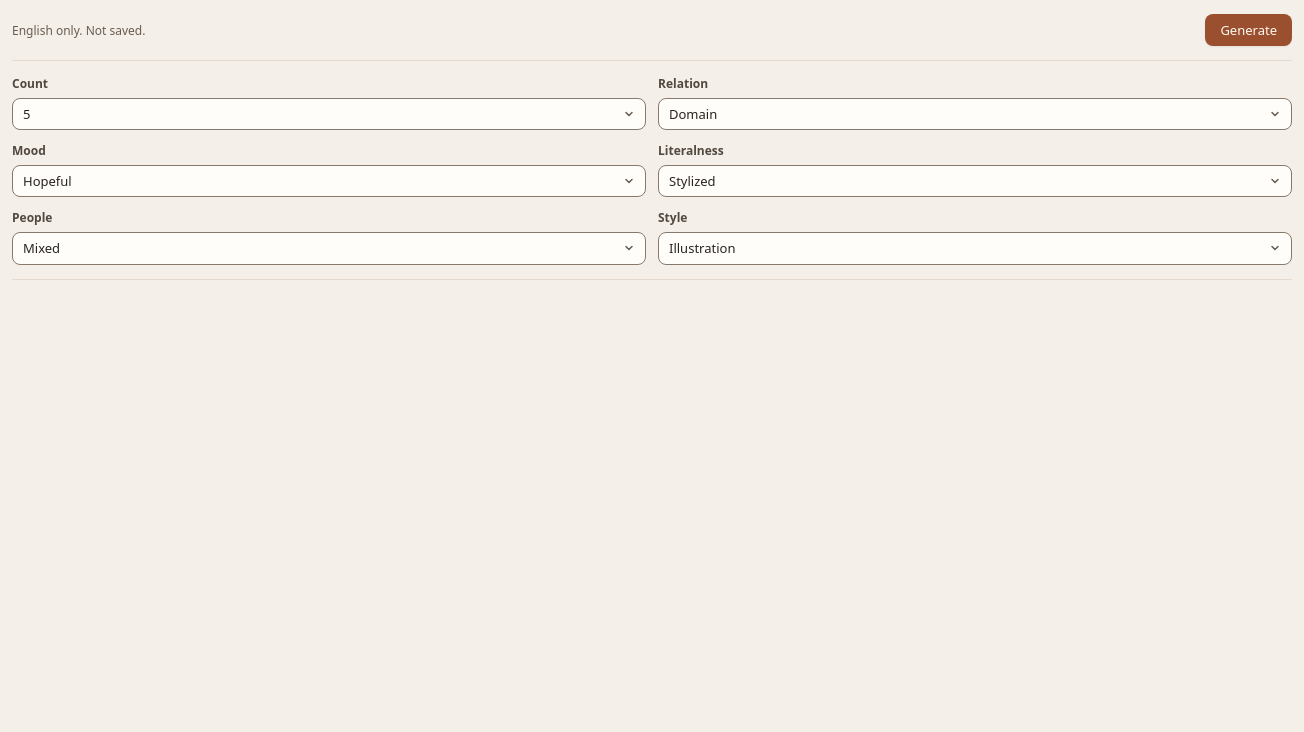
Test: ImagingTab run › renders the generated prompts and the count header
This screenshot has width=1304, height=732.
What coordinates should you click on to do the following:
click the button with class "action-button"
I would click on:
 (1249, 30)
Its box is x1=1205 y1=14 x2=1292 y2=46.
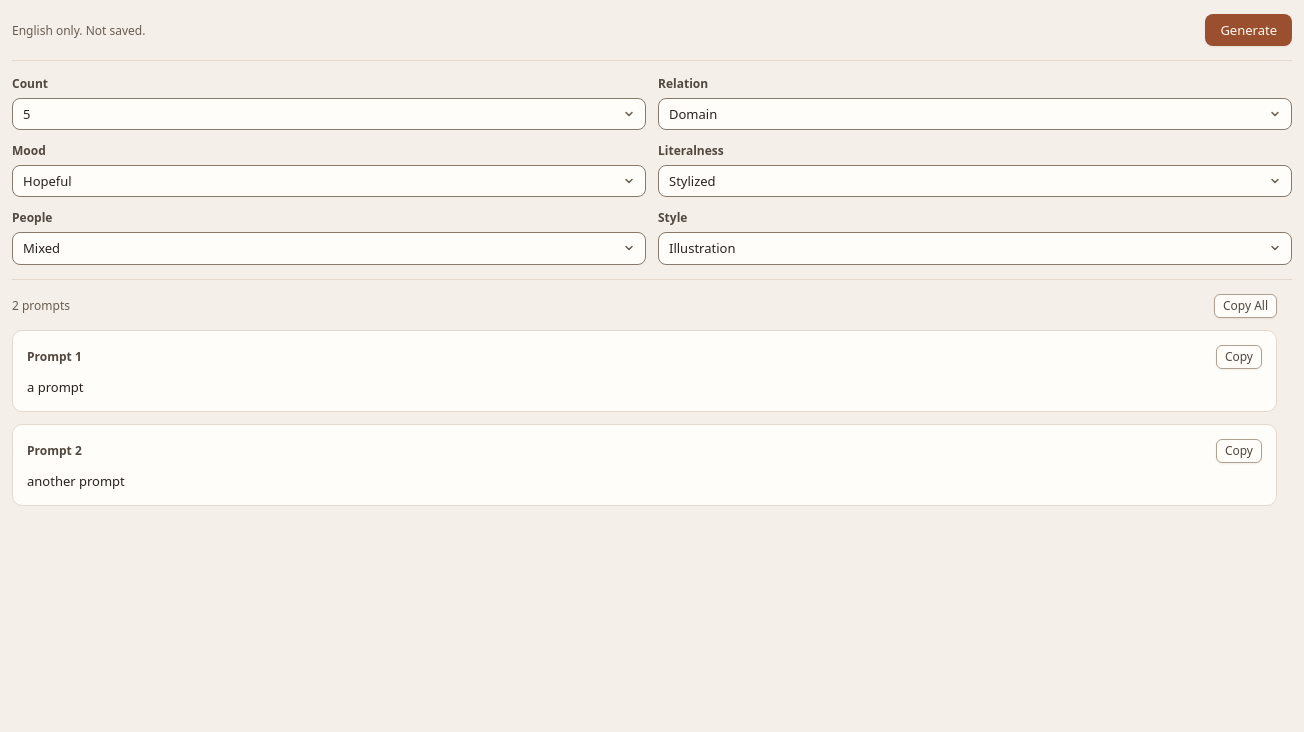
Expected: the text "2 prompts" is shown, x1=12 y1=297 x2=70 y2=314
Expected: the number of elements with class "image-prompt-card" is 2, x1=12 y1=330 x2=1277 y2=412; x1=12 y1=424 x2=1277 y2=506
Expected: the text "a prompt" is shown, x1=27 y1=378 x2=84 y2=396
